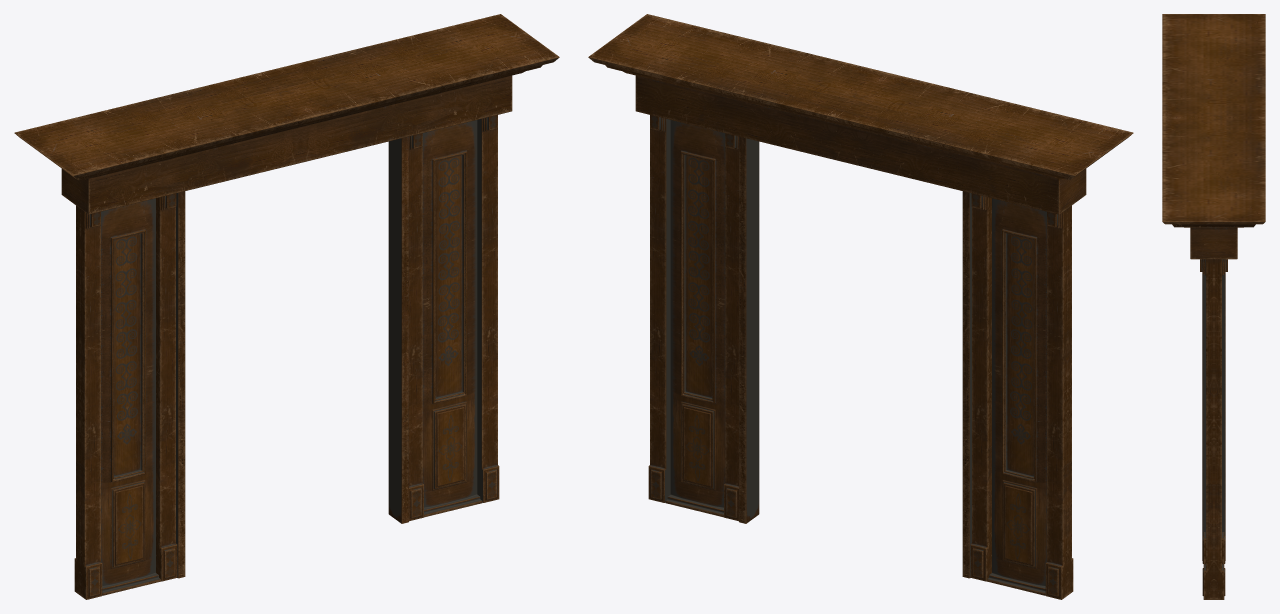
The model's file is doorframe.glb.
3 views of the same model, side by side, from view 1: azimuth 30°, elevation 25°; view 2: azimuth 150°, elevation 25°; view 3: azimuth 270°, elevation 25° (orthographic). The views are drawn at different scales.
Parts seen in each view (by area): view 1: Base_2_Base_0; view 2: Base_2_Base_0; view 3: Base_2_Base_0.
Boxes of the visible parts, bbox=[...] form: Base_2_Base_0: bbox=[14, 14, 559, 599]; Base_2_Base_0: bbox=[588, 14, 1133, 599]; Base_2_Base_0: bbox=[1162, 14, 1265, 599].
Bounding box in the file's own units: 4.75 × 4.2 × 0.9994.
Materials: 1 (1 with a texture image).
